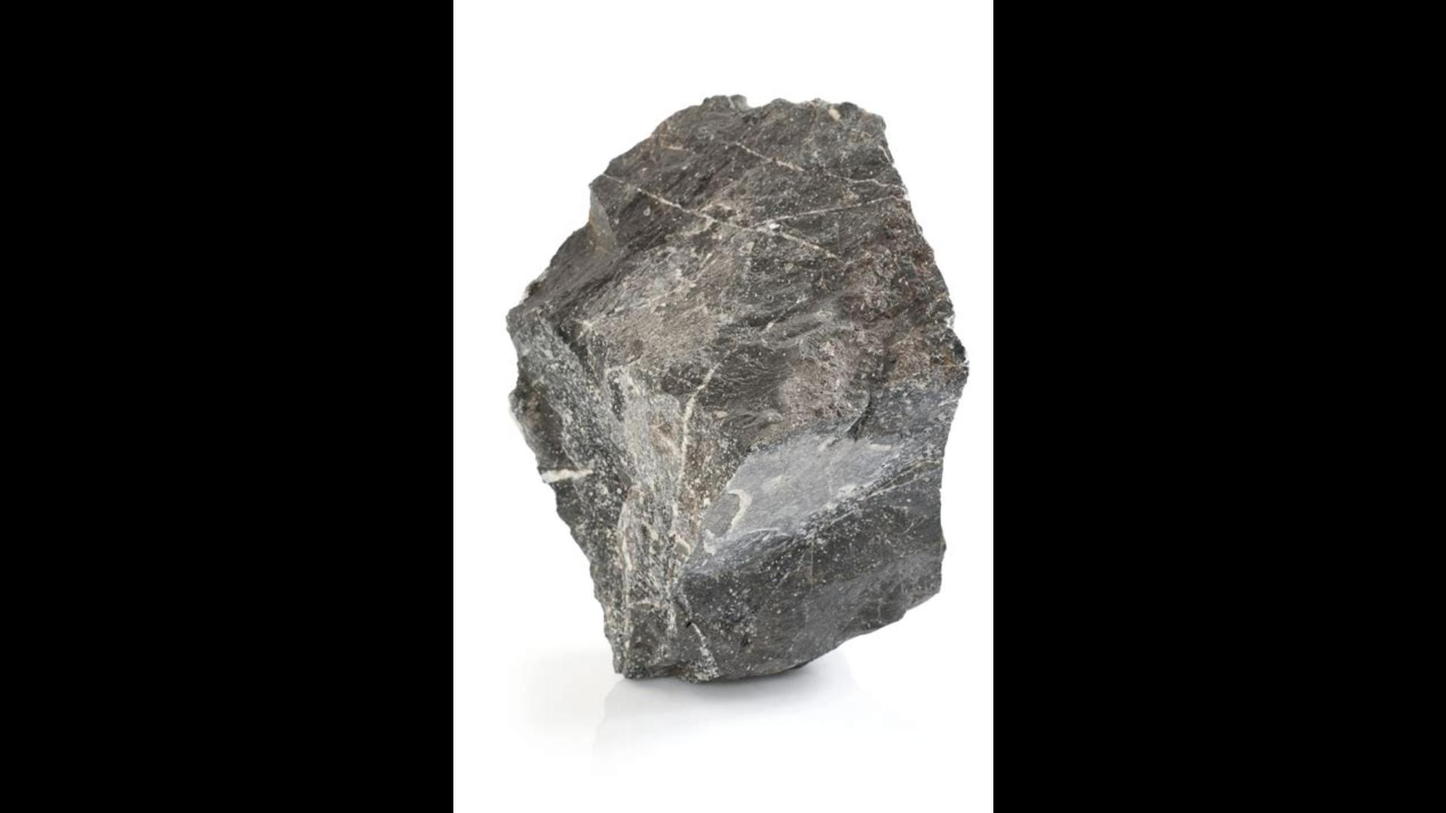rock: (509, 96, 967, 675)
